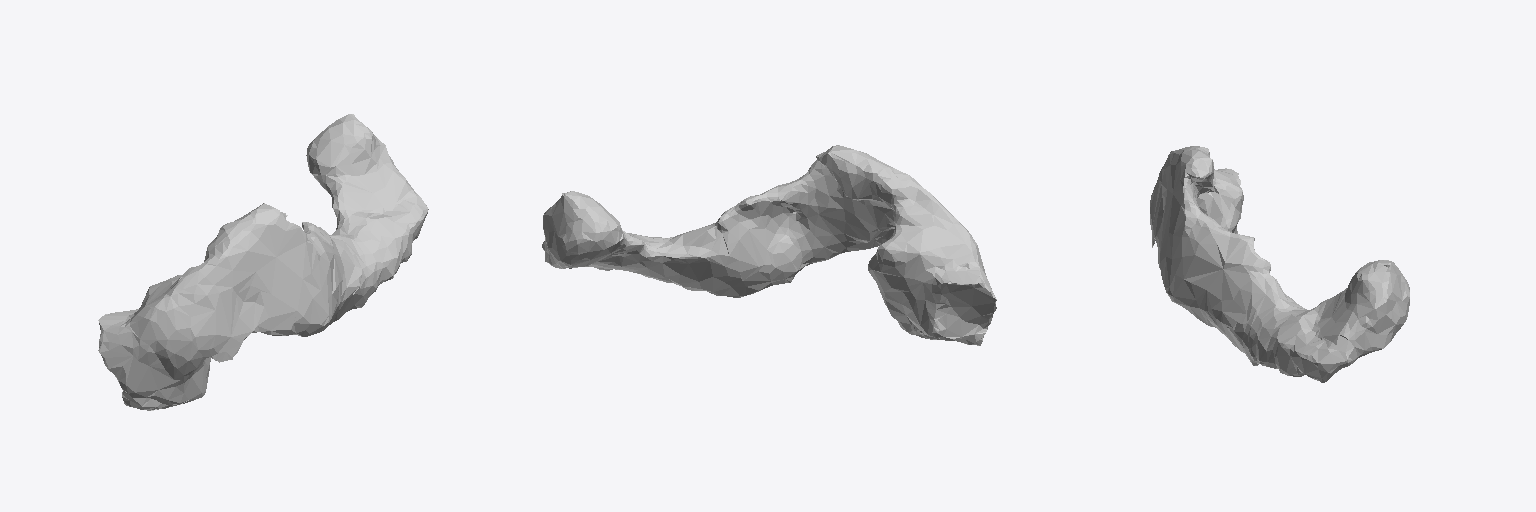
3 renders of one model, left to right at view 1: azimuth 30°, elevation 25°; view 2: azimuth 150°, elevation 25°; view 3: azimuth 270°, elevation 25°, orthographic.
Visible parts, largest first — view 1: Polygonal_Model_6_Triangles_0; view 2: Polygonal_Model_6_Triangles_0; view 3: Polygonal_Model_6_Triangles_0.
Part boxes in pixels (left/top/right/bottom): Polygonal_Model_6_Triangles_0: left=98, top=114, right=428, bottom=410; Polygonal_Model_6_Triangles_0: left=542, top=145, right=996, bottom=345; Polygonal_Model_6_Triangles_0: left=1150, top=146, right=1409, bottom=382.
Bounding box in the file's own units: 5.68 × 2.43 × 3.32.